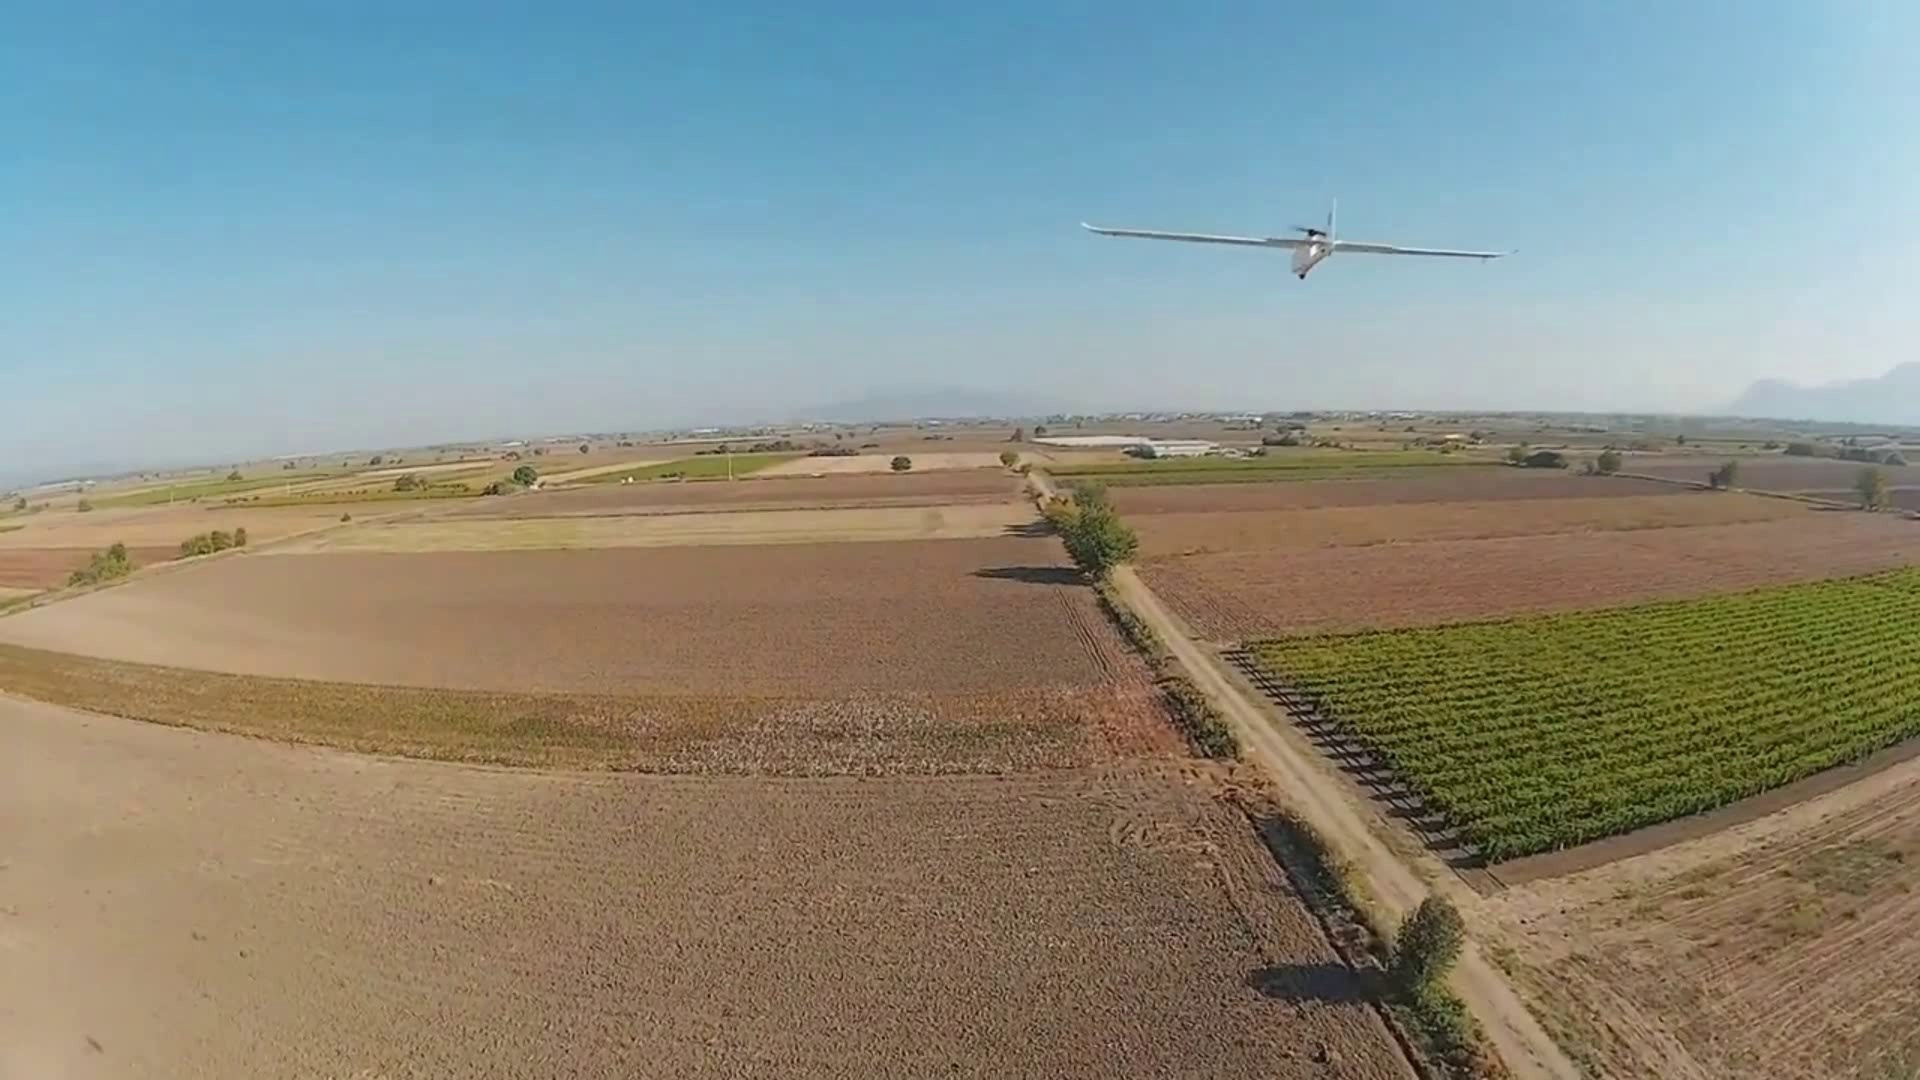airplane: (1085, 211, 1510, 280)
